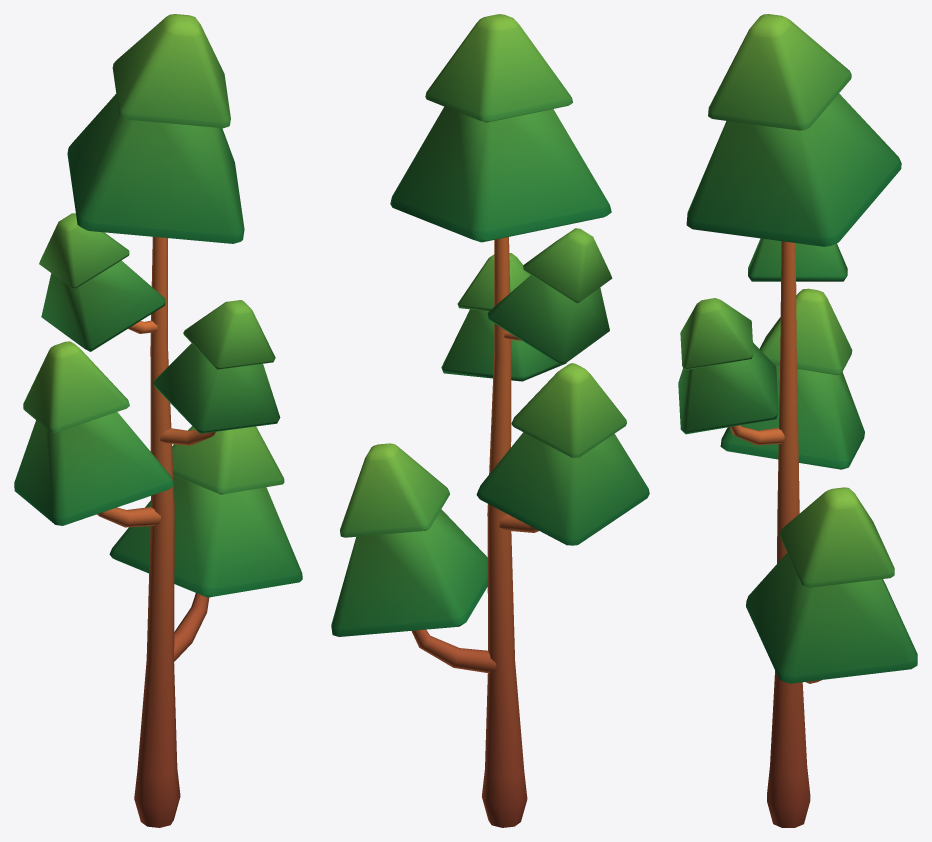
The model's file is Tree_4_C_Color1.glb.
3 renders of one model, left to right at view 1: azimuth 30°, elevation 25°; view 2: azimuth 150°, elevation 25°; view 3: azimuth 270°, elevation 25°, orthographic. The views are drawn at different scales.
Visible parts, largest first — view 1: Tree_4_C_Color1; view 2: Tree_4_C_Color1; view 3: Tree_4_C_Color1.
Part boxes in pixels (<box>): Tree_4_C_Color1: <box>14,14,302,827</box>; Tree_4_C_Color1: <box>331,14,649,827</box>; Tree_4_C_Color1: <box>678,14,917,827</box>.
Size of the model in its own units: 3.74 by 10.77 by 2.87.
1 material, 1 textured.
